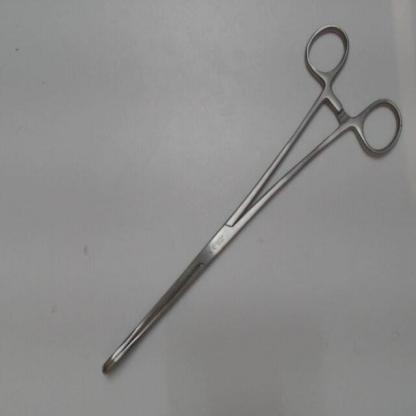Sponge Forceps: (96, 18, 408, 382)
